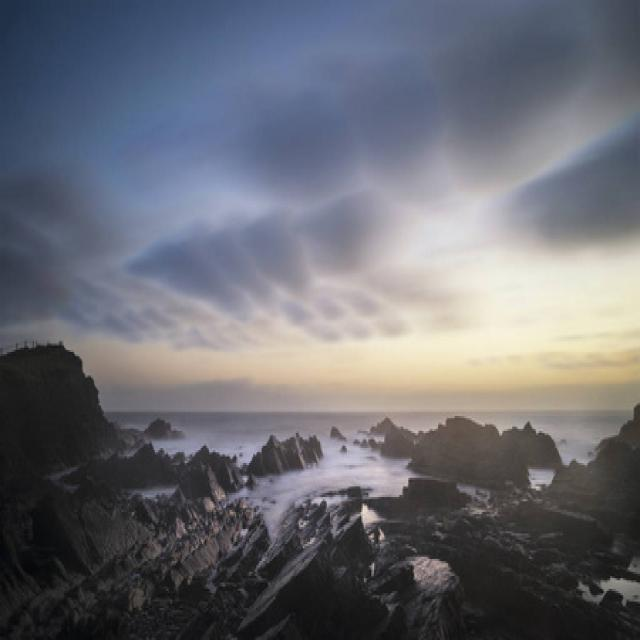reef: (237, 420, 618, 612)
